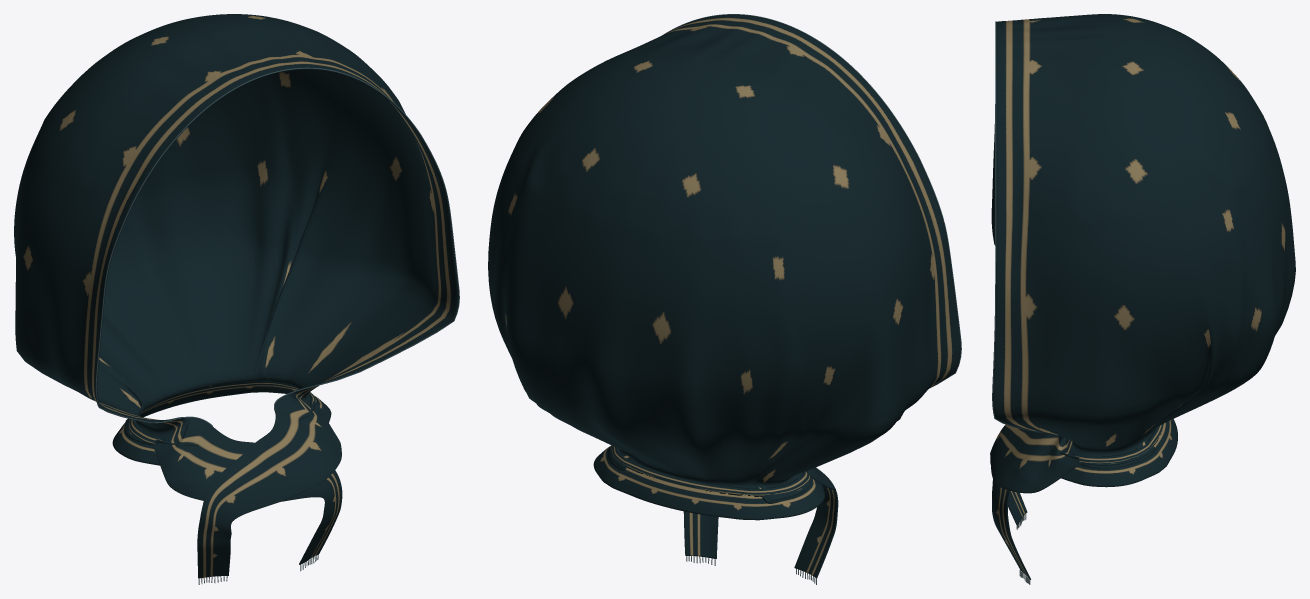
File: Feminine-tank-pashmina240-headgear.glb
3 renders of one model, left to right at view 1: azimuth 30°, elevation 25°; view 2: azimuth 150°, elevation 25°; view 3: azimuth 270°, elevation 25°, orthographic. The views are drawn at different scales.
Parts seen in each view (by area): view 1: 226 headgear / Headwear / continuous woven pashmina239, 226 headgear / Headwear / face edge239; view 2: 226 headgear / Headwear / continuous woven pashmina239, 226 headgear / Headwear / face edge239; view 3: 226 headgear / Headwear / continuous woven pashmina239, 226 headgear / Headwear / face edge239.
Part boxes in pixels (x1,y1,x2,y2): 226 headgear / Headwear / continuous woven pashmina239: (14,14,458,578); 226 headgear / Headwear / face edge239: (95,67,459,425); 226 headgear / Headwear / continuous woven pashmina239: (488,14,960,578); 226 headgear / Headwear / face edge239: (663,14,961,387); 226 headgear / Headwear / continuous woven pashmina239: (990,14,1295,579); 226 headgear / Headwear / face edge239: (992,21,1043,432).
Bounding box in the file's own units: 1.02 × 1.35 × 0.7153.
Materials: 3 (1 with a texture image).
